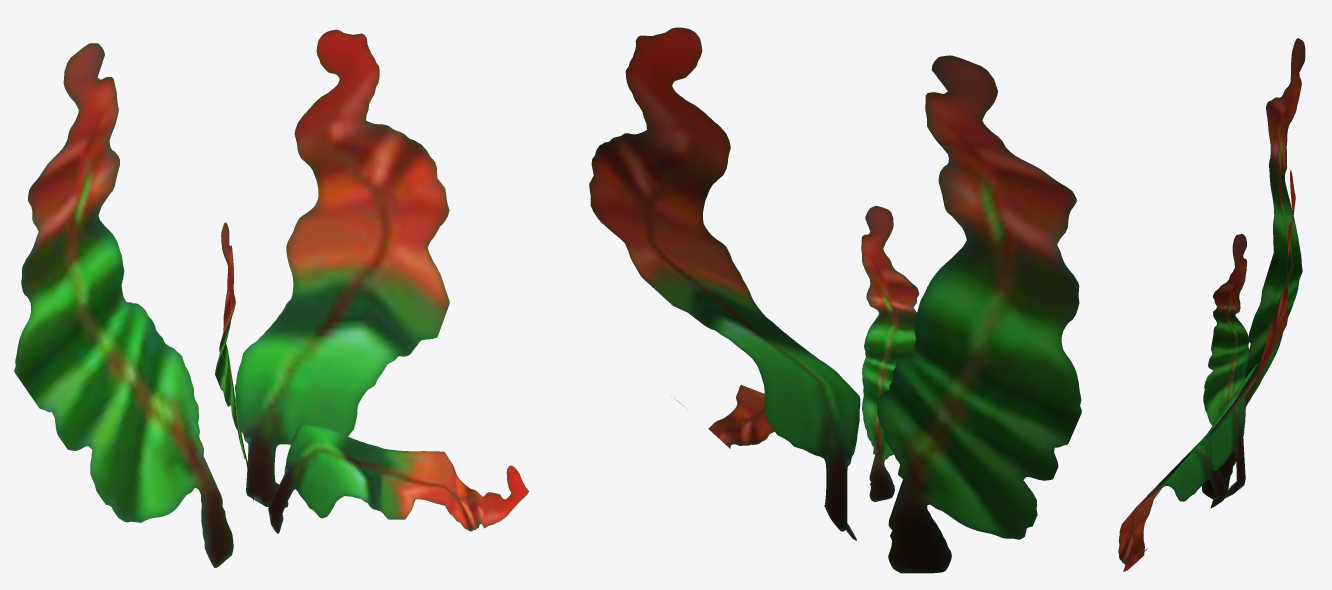
The model's file is Sea_haicao03.FBX.
3 renders of one model, left to right at view 1: azimuth 30°, elevation 25°; view 2: azimuth 150°, elevation 25°; view 3: azimuth 270°, elevation 25°, orthographic. The views are drawn at different scales.
Parts seen in each view (by area): view 1: haicao03; view 2: haicao03; view 3: haicao03.
Boxes of the visible parts, x1,y1,x2,y2 form: haicao03: (14, 29, 528, 567); haicao03: (589, 27, 1081, 573); haicao03: (1118, 38, 1305, 571).
Bounding box in the file's own units: 37.95 × 41.02 × 17.41.
